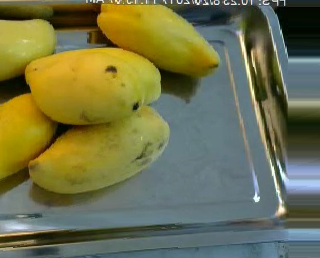Mango: (28, 105, 168, 194), (27, 51, 144, 124), (97, 5, 220, 74), (24, 48, 160, 106), (0, 92, 56, 180), (0, 18, 56, 82)
